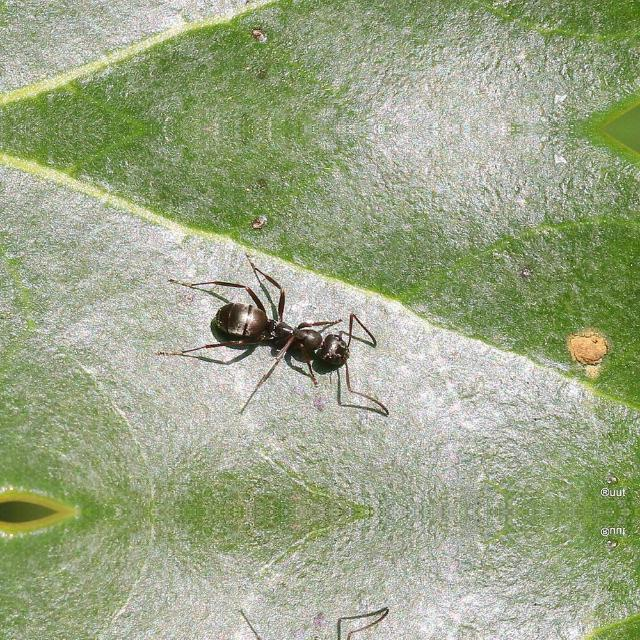Formica: (216, 272, 364, 396)
